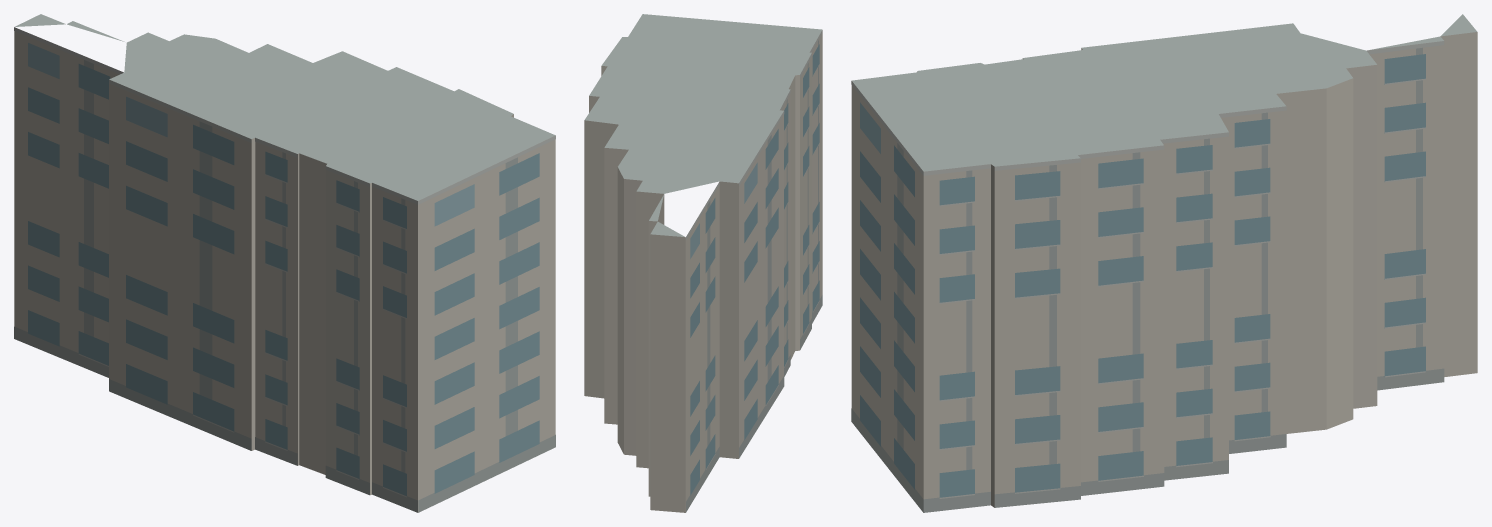
File: survey-upis-32497428.glb
3 renders of one model, left to right at view 1: azimuth 30°, elevation 25°; view 2: azimuth 150°, elevation 25°; view 3: azimuth 270°, elevation 25°, orthographic. The views are drawn at different scales.
Visible parts, largest first — view 1: survey-upis-32497428.tmp; view 2: survey-upis-32497428.tmp; view 3: survey-upis-32497428.tmp.
Part boxes in pixels (x1=…): survey-upis-32497428.tmp: x1=14, y1=14, x2=555, y2=512; survey-upis-32497428.tmp: x1=584, y1=14, x2=822, y2=512; survey-upis-32497428.tmp: x1=851, y1=14, x2=1477, y2=512.
Bounding box in the file's own units: 19.53 × 19.7 × 32.75.
